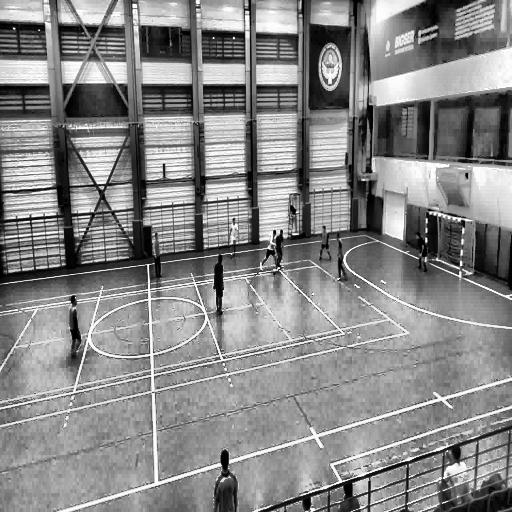ball: (273, 268, 276, 274)
player: (214, 449, 238, 511), (69, 294, 81, 360), (261, 228, 278, 272), (214, 253, 225, 316), (412, 230, 426, 271), (336, 233, 346, 281), (318, 226, 331, 261), (152, 233, 162, 277), (229, 218, 238, 259)
